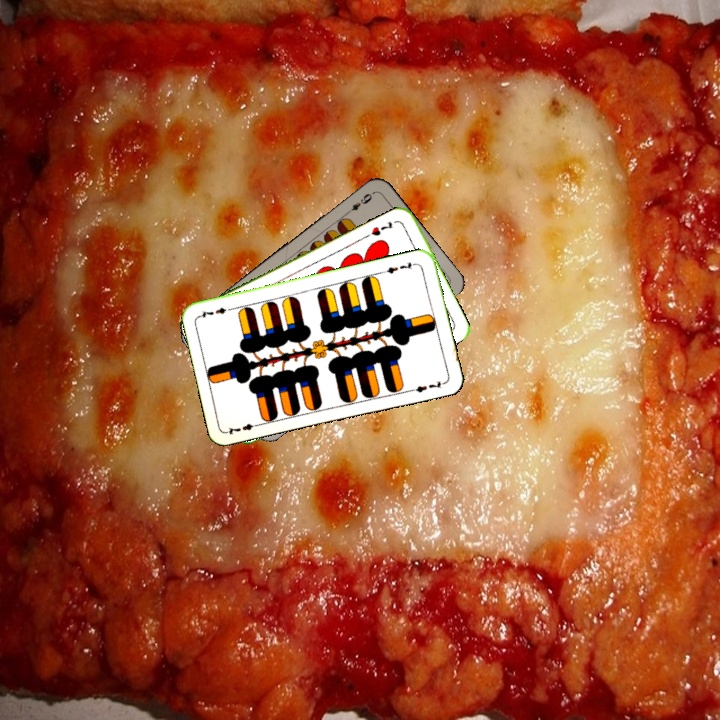E7: (379, 258, 420, 276), (223, 419, 263, 437)
E9: (342, 188, 376, 218)
H7: (367, 217, 395, 238)
